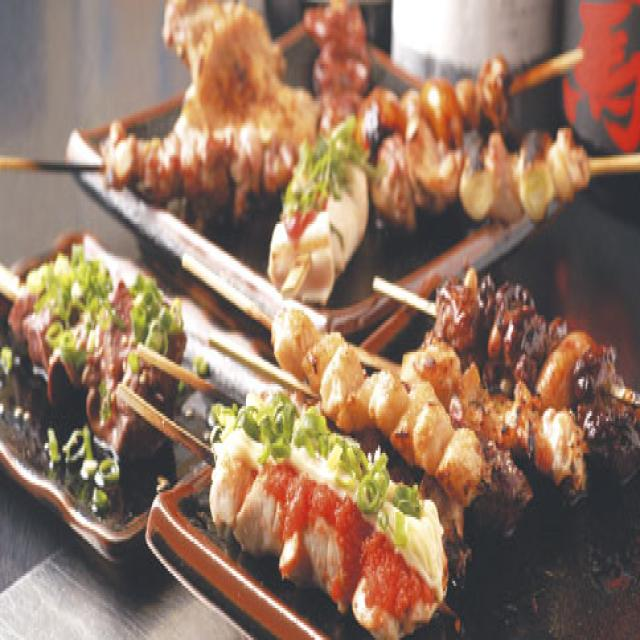烧串烤肉: (190, 263, 640, 640)
